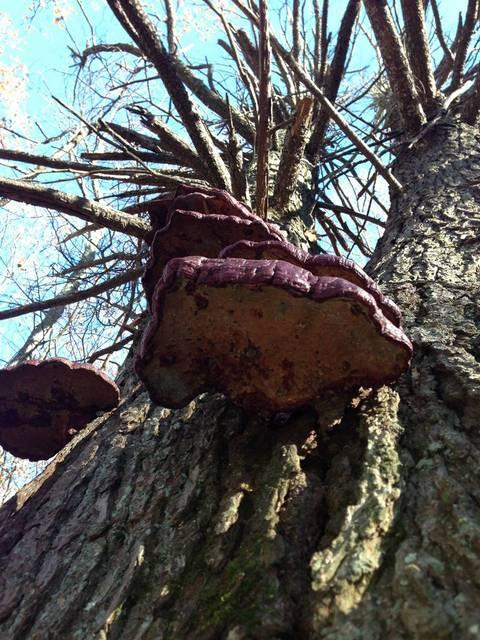Non-edible Mushroom: (131, 185, 414, 423)
